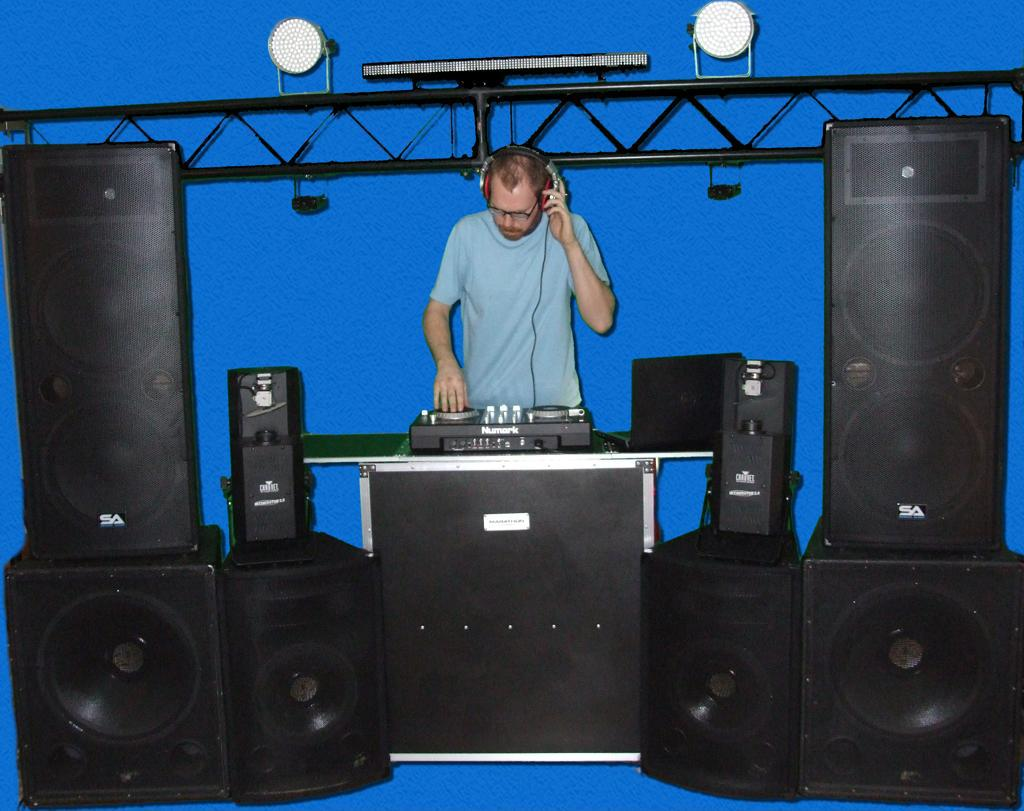face: (490, 187, 539, 242)
